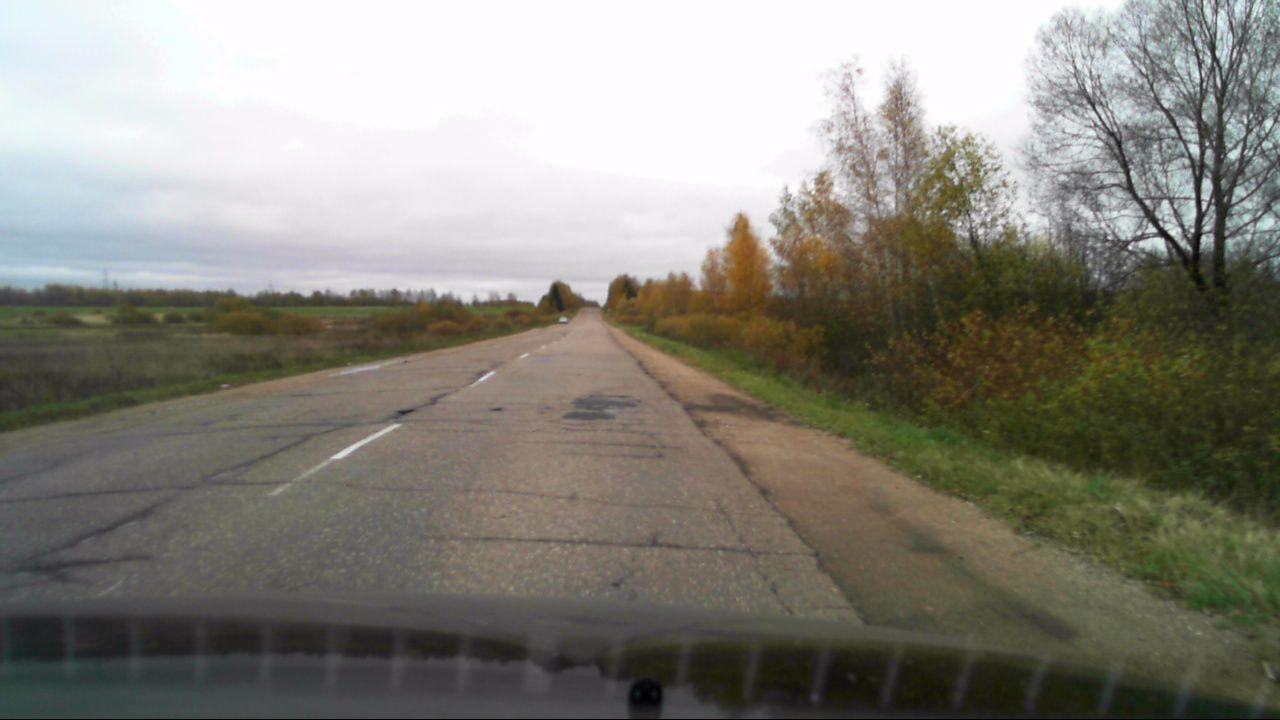pothole: (563, 389, 629, 424), (197, 453, 259, 489)
